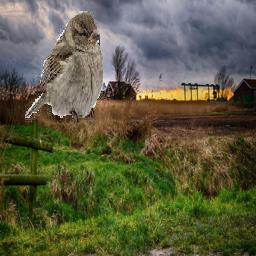Sparrow: (25, 12, 103, 133)
